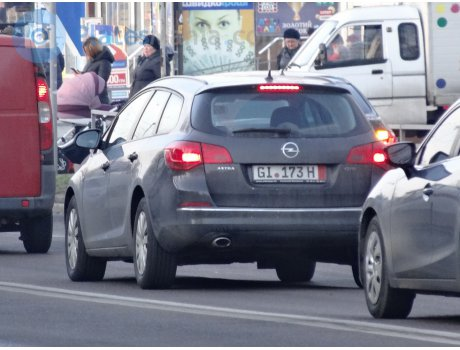License Plates: (255, 163, 316, 176)
